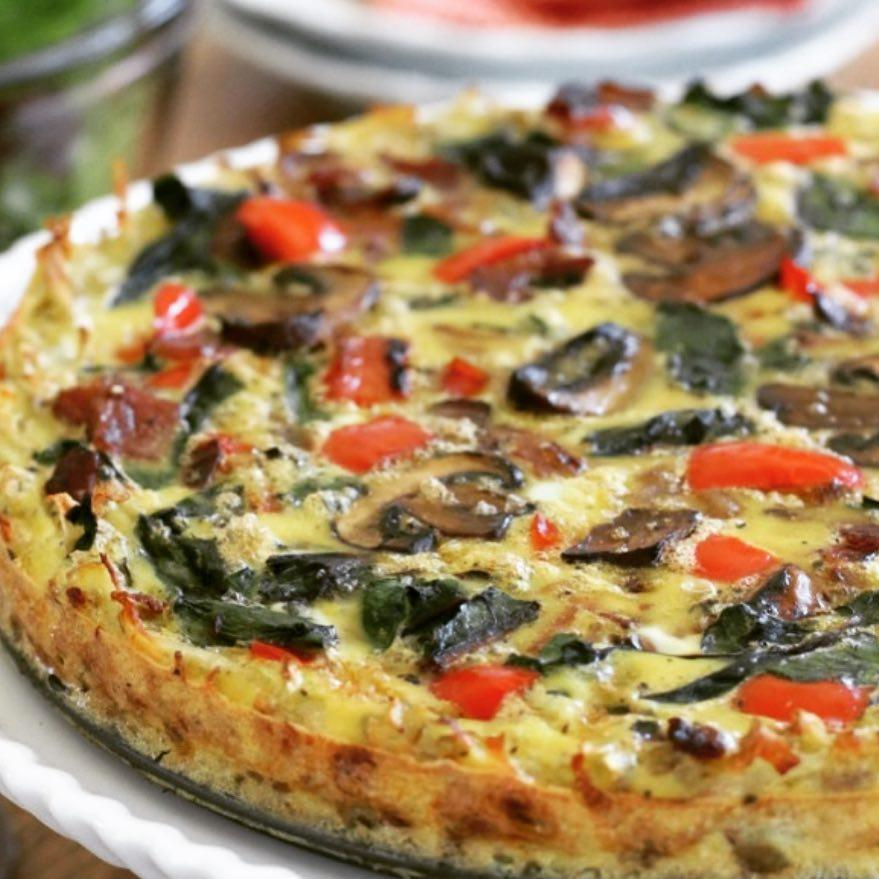Basil: (112, 174, 252, 306), (695, 580, 879, 652), (159, 593, 342, 664), (643, 299, 756, 401), (349, 564, 466, 654), (129, 499, 235, 596), (413, 591, 542, 667), (583, 404, 760, 459), (223, 543, 378, 600), (746, 622, 879, 686), (682, 77, 837, 130), (578, 143, 715, 199), (641, 651, 760, 705), (459, 132, 553, 197), (799, 173, 879, 243), (500, 626, 611, 673), (272, 355, 325, 423), (751, 333, 817, 373)
Ham: (66, 382, 180, 458), (41, 434, 106, 502), (830, 516, 879, 558)
Mushroom: (330, 451, 535, 559), (565, 140, 760, 240), (190, 260, 383, 351), (616, 215, 805, 307), (502, 317, 639, 421), (752, 380, 879, 469), (561, 507, 709, 567), (746, 557, 825, 624), (828, 344, 879, 391)
Peppers: (683, 434, 867, 501), (228, 191, 351, 268), (318, 407, 447, 480), (734, 670, 879, 728), (433, 655, 542, 725), (430, 231, 567, 283), (326, 328, 416, 406), (676, 529, 794, 585), (726, 127, 859, 175), (768, 256, 879, 308), (119, 326, 202, 394), (145, 275, 207, 326), (433, 352, 497, 397), (526, 510, 566, 548)
Pizza: (0, 69, 879, 879)
